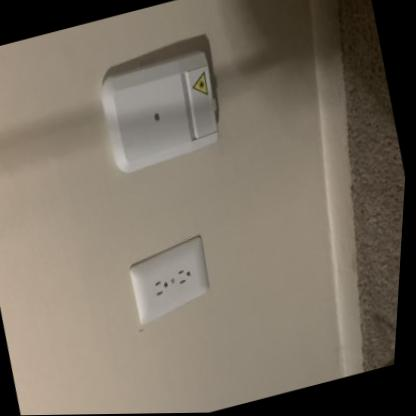OUTLET: (122, 235, 218, 327)
